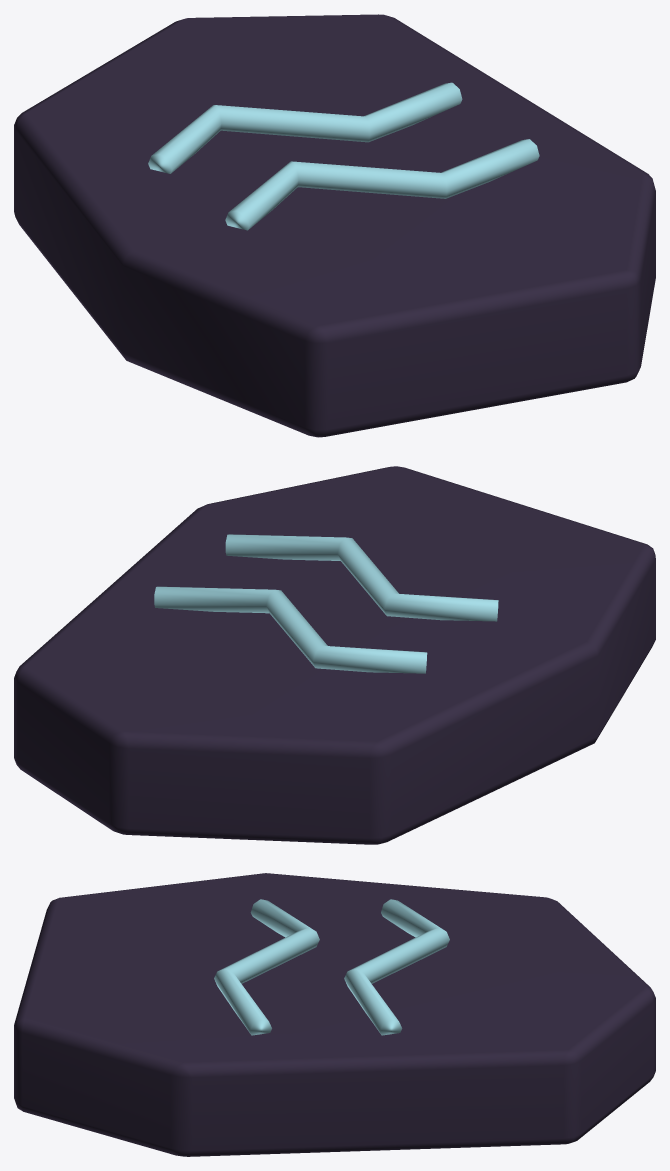
File: bel.glb
3 views of the same model, one above another, from view 1: azimuth 30°, elevation 25°; view 2: azimuth 150°, elevation 25°; view 3: azimuth 270°, elevation 25° (orthographic). The views are drawn at different scales.
Parts seen in each view (by area): view 1: SM_bel; view 2: SM_bel; view 3: SM_bel.
Boxes of the visible parts, x1,y1,x2,y2 form: SM_bel: [14, 14, 655, 437]; SM_bel: [14, 466, 655, 844]; SM_bel: [14, 873, 655, 1156].
Size of the model in its own units: 0.1986 by 0.054 by 0.2714.
